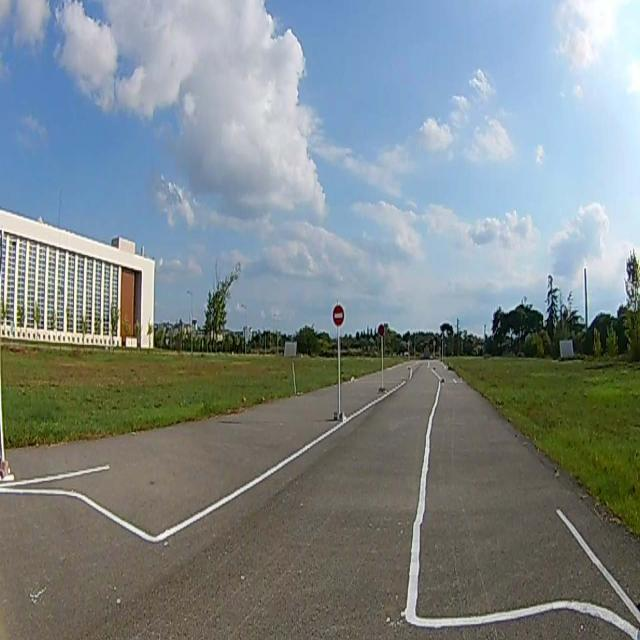girisyok: (333, 305, 344, 326)
